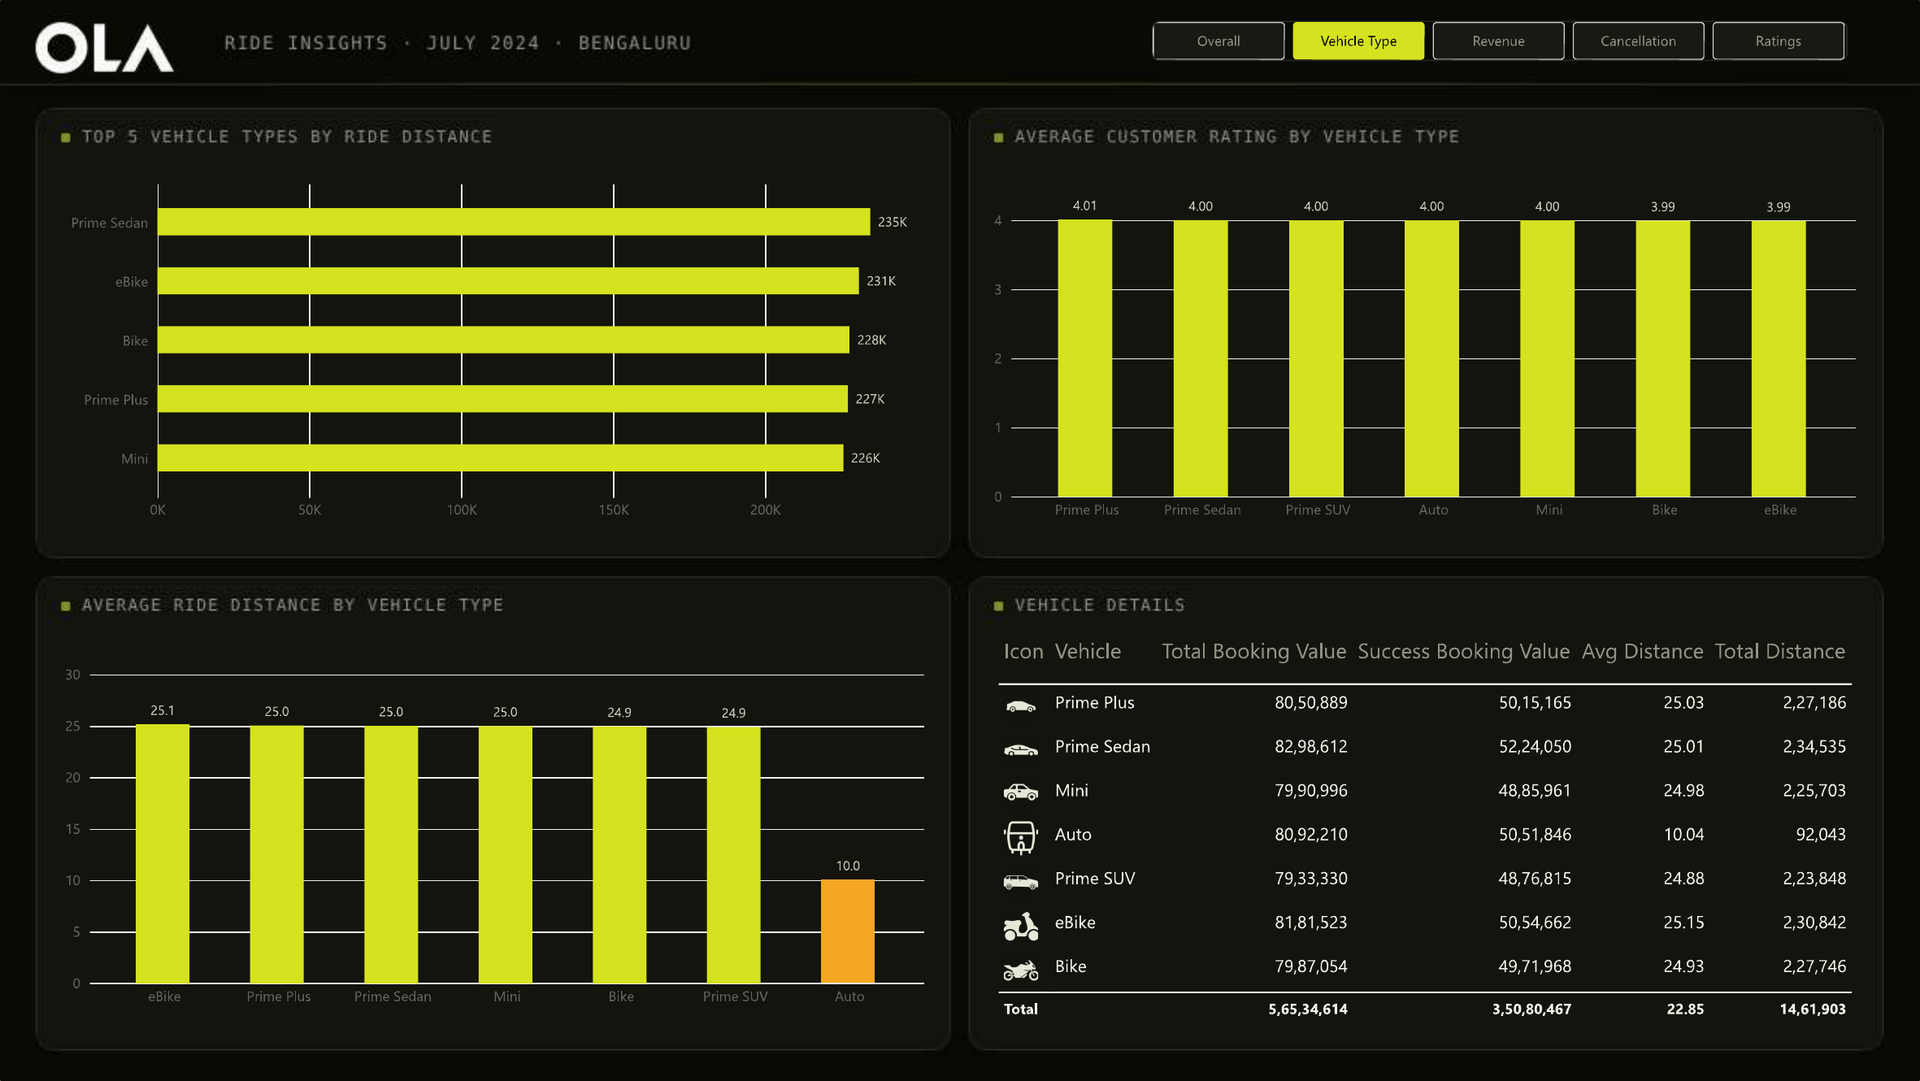

The dashboard page shown, as its layout file describes it:
{"tool":"powerbi","page":{"name":"Vehicle Type","canvas":[1920,1080],"ordinal":1},"visuals":[{"type":"clusteredBarChart","fields":{"Category":["ola_db bookings.Vehicle_Type"],"Y":["_Measures.Total Distance"]},"box":[48,162,892,378],"z":0},{"type":"clusteredColumnChart","fields":{"Category":["ola_db bookings.Vehicle_Type"],"Y":["_Measures.Avg Customer Rating"]},"box":[978.5,162.2,894,378],"z":1000},{"type":"tableEx","fields":{"Values":["Vehicle Icons.Icon","Vehicle Icons.Vehicle_Type","_Measures.Total Booking Value","_Measures.Success Booking Value","_Measures.Avg Distance","_Measures.Total Distance"]},"box":[982,616,892,436],"z":2000},{"type":"clusteredColumnChart","fields":{"Category":["ola_db bookings.Vehicle_Type"],"Y":["_Measures.Avg Distance"]},"box":[48.1,649.1,892,378],"z":3000},{"type":"pageNavigator","box":[1152,20,696,40],"z":4000}]}

Visuals, with their boxes in screenshot pixels (x1, y1, x2, y2), scaled from the page's 1920x1080 canvas onto the 1920x1081 screenshot:
clusteredBarChart - ola_db bookings.Vehicle_Type x _Measures.Total Distance: box=[48, 162, 940, 540]
clusteredColumnChart - ola_db bookings.Vehicle_Type x _Measures.Avg Customer Rating: box=[978, 162, 1872, 541]
tableEx - Vehicle Icons.Icon x Vehicle Icons.Vehicle_Type: box=[982, 617, 1874, 1053]
clusteredColumnChart - ola_db bookings.Vehicle_Type x _Measures.Avg Distance: box=[48, 650, 940, 1028]
pageNavigator: box=[1152, 20, 1848, 60]
